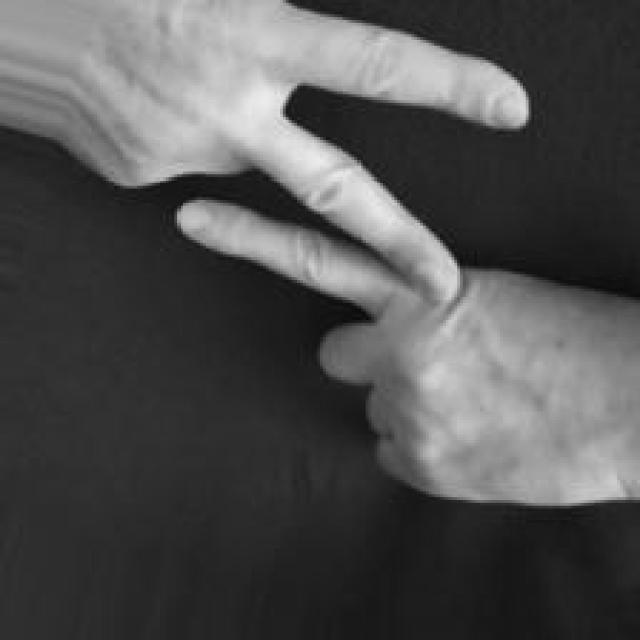Z: (87, 5, 640, 503)
